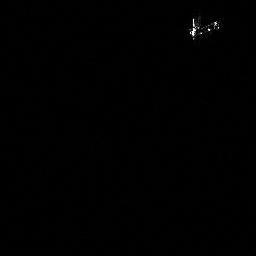ship: (185, 15, 221, 42)
